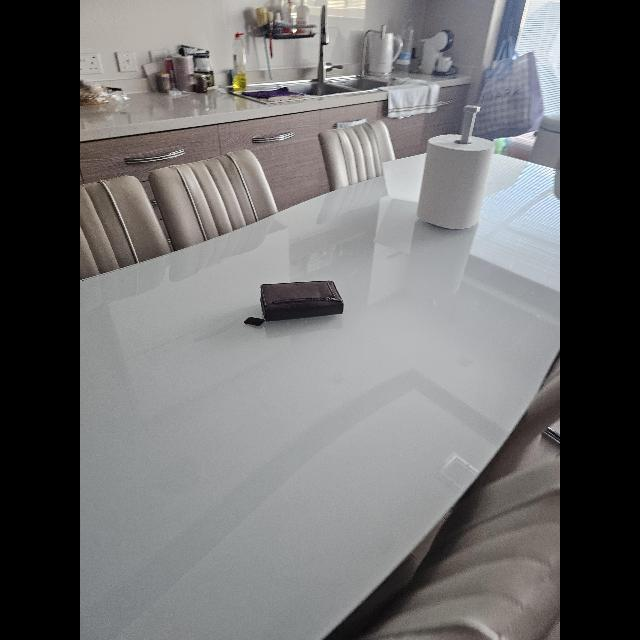Wallet: (244, 280, 346, 328)
